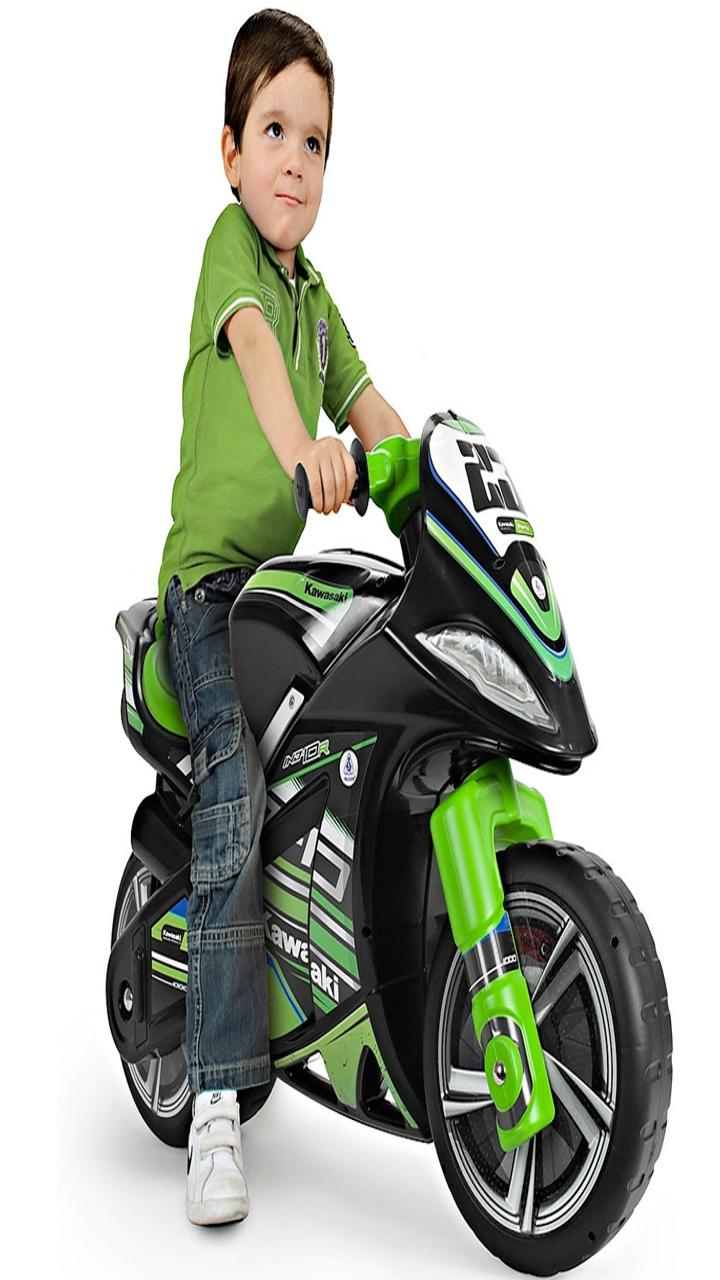cyclist: (88, 13, 423, 1240)
motorcycle: (79, 416, 696, 1271)
